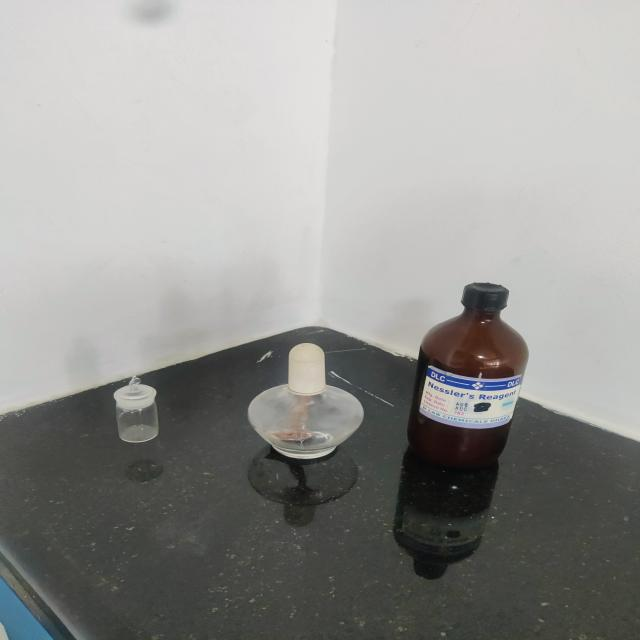Nessler_Reagent_Bottle: (402, 261, 550, 471)
Spirit_Lamp: (227, 327, 379, 482)
Weighing_Bottle: (99, 358, 184, 466)
